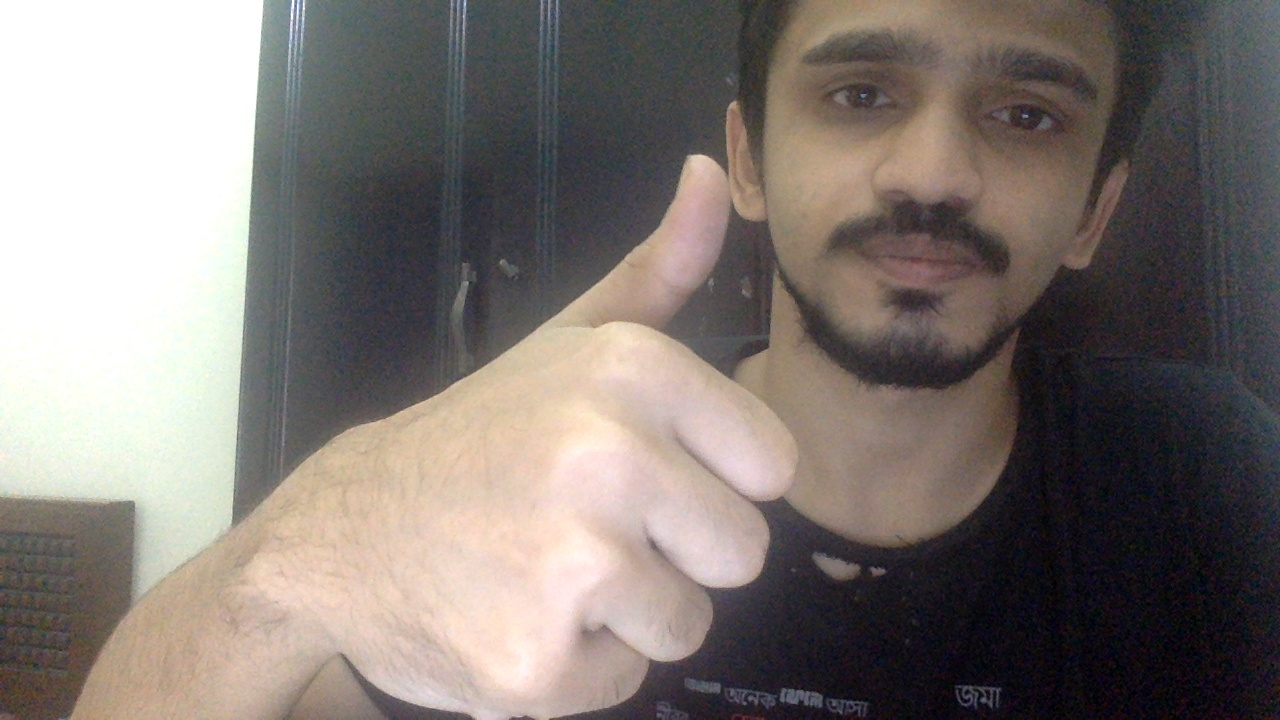good: (301, 147, 799, 715)
